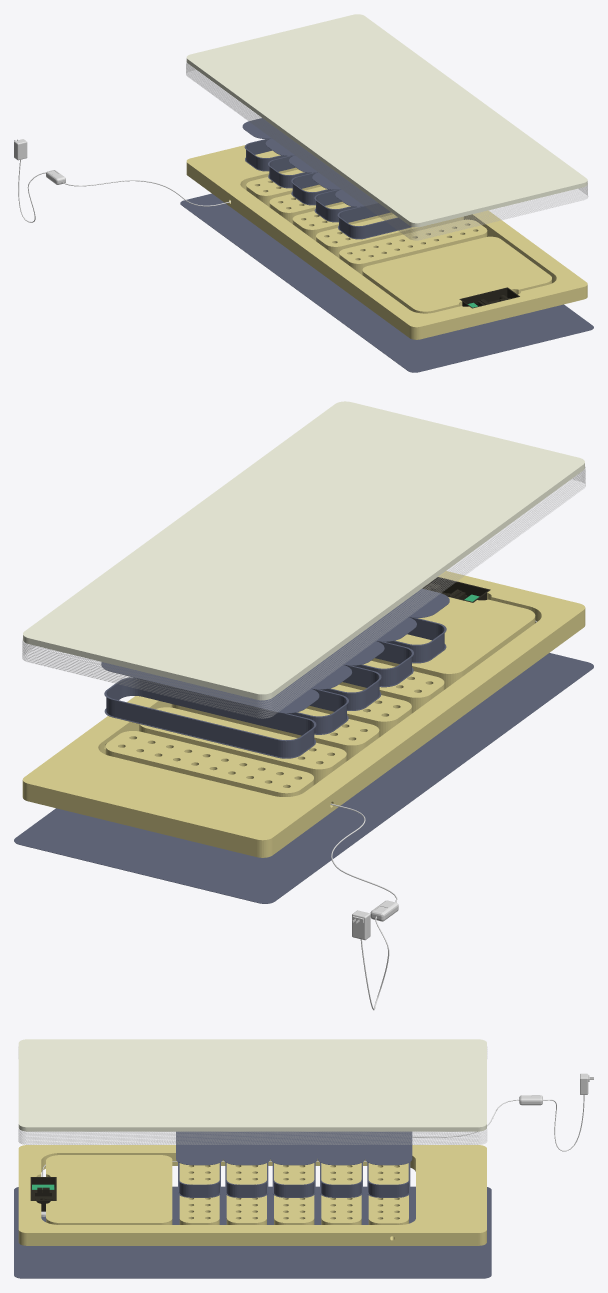
3 renders of one model, top to bottom at view 1: azimuth 30°, elevation 25°; view 2: azimuth 150°, elevation 25°; view 3: azimuth 270°, elevation 25°, orthographic. The views are drawn at different scales.
Visible parts, largest first — view 1: BOX - 零件6^BOX-5.017, BOX - 零件6^BOX-5.010, BOX - 零件6^BOX-5, BOX - 零件6^BOX-5.004, BOX - 零件6^BOX-5.024, BOX - 零件6^BOX-5.021, BOX - 零件6^BOX-5.012, BOX - 零件6^BOX-5.013, BOX - 零件6^BOX-5.014, BOX - 零件6^BOX-5.015, BOX - 零件6^BOX-5.016, BOX - 零件6^BOX-5.008 (+5 smaller); view 2: BOX - 零件6^BOX-5.017, BOX - 零件6^BOX-5.010, BOX - 零件6^BOX-5, BOX - 零件6^BOX-5.021, BOX - 零件6^BOX-5.024, BOX - 零件6^BOX-5.016, BOX - 零件6^BOX-5.004, BOX - 零件6^BOX-5.015, BOX - 零件6^BOX-5.009, BOX - 零件6^BOX-5.014, BOX - 零件6^BOX-5.012, BOX - 零件6^BOX-5.013 (+4 smaller); view 3: BOX - 零件6^BOX-5.017, BOX - 零件6^BOX-5.010, BOX - 零件6^BOX-5, BOX - 零件6^BOX-5.004, BOX - 零件6^BOX-5.024, BOX - 零件6^BOX-5.021, BOX - 零件6^BOX-5.015, BOX - 零件6^BOX-5.012, BOX - 零件6^BOX-5.013, BOX - 零件6^BOX-5.014, BOX - 零件6^BOX-5.016, BOX - 零件6^BOX-5.005 (+5 smaller).
Part boxes in pixels (x1,y1,x2,y2): BOX - 零件6^BOX-5.017: (186, 14, 587, 227); BOX - 零件6^BOX-5.010: (186, 145, 587, 339); BOX - 零件6^BOX-5: (180, 193, 593, 372); BOX - 零件6^BOX-5.004: (362, 236, 551, 313); BOX - 零件6^BOX-5.024: (186, 62, 588, 240); BOX - 零件6^BOX-5.021: (244, 138, 411, 239); BOX - 零件6^BOX-5.012: (339, 219, 487, 274); BOX - 零件6^BOX-5.013: (316, 214, 463, 257); BOX - 零件6^BOX-5.014: (292, 203, 393, 240); BOX - 零件6^BOX-5.015: (269, 186, 344, 223); BOX - 零件6^BOX-5.016: (246, 169, 321, 206); BOX - 零件6^BOX-5.008: (265, 135, 307, 155); BOX - 零件6^BOX-5.017: (23, 401, 584, 700); BOX - 零件6^BOX-5.010: (22, 571, 585, 857); BOX - 零件6^BOX-5: (14, 653, 593, 903); BOX - 零件6^BOX-5.021: (104, 617, 446, 758); BOX - 零件6^BOX-5.024: (22, 467, 585, 718); BOX - 零件6^BOX-5.016: (105, 731, 313, 796); BOX - 零件6^BOX-5.004: (371, 597, 535, 689); BOX - 零件6^BOX-5.015: (139, 707, 346, 784); BOX - 零件6^BOX-5.009: (101, 662, 319, 713); BOX - 零件6^BOX-5.014: (171, 704, 379, 760); BOX - 零件6^BOX-5.012: (339, 660, 444, 713); BOX - 零件6^BOX-5.013: (306, 684, 411, 737); BOX - 零件6^BOX-5.017: (18, 1039, 486, 1131); BOX - 零件6^BOX-5.010: (18, 1145, 486, 1245); BOX - 零件6^BOX-5: (14, 1186, 491, 1278); BOX - 零件6^BOX-5.004: (46, 1155, 172, 1224); BOX - 零件6^BOX-5.024: (18, 1129, 486, 1144); BOX - 零件6^BOX-5.021: (178, 1162, 410, 1197); BOX - 零件6^BOX-5.015: (321, 1163, 361, 1224); BOX - 零件6^BOX-5.012: (179, 1163, 219, 1224); BOX - 零件6^BOX-5.013: (226, 1163, 266, 1224); BOX - 零件6^BOX-5.014: (274, 1163, 314, 1224); BOX - 零件6^BOX-5.016: (368, 1163, 408, 1224); BOX - 零件6^BOX-5.005: (176, 1131, 223, 1165).
Size of the model in its own units: 1.5 by 0.7904 by 2.45.
6 materials, 1 textured.
